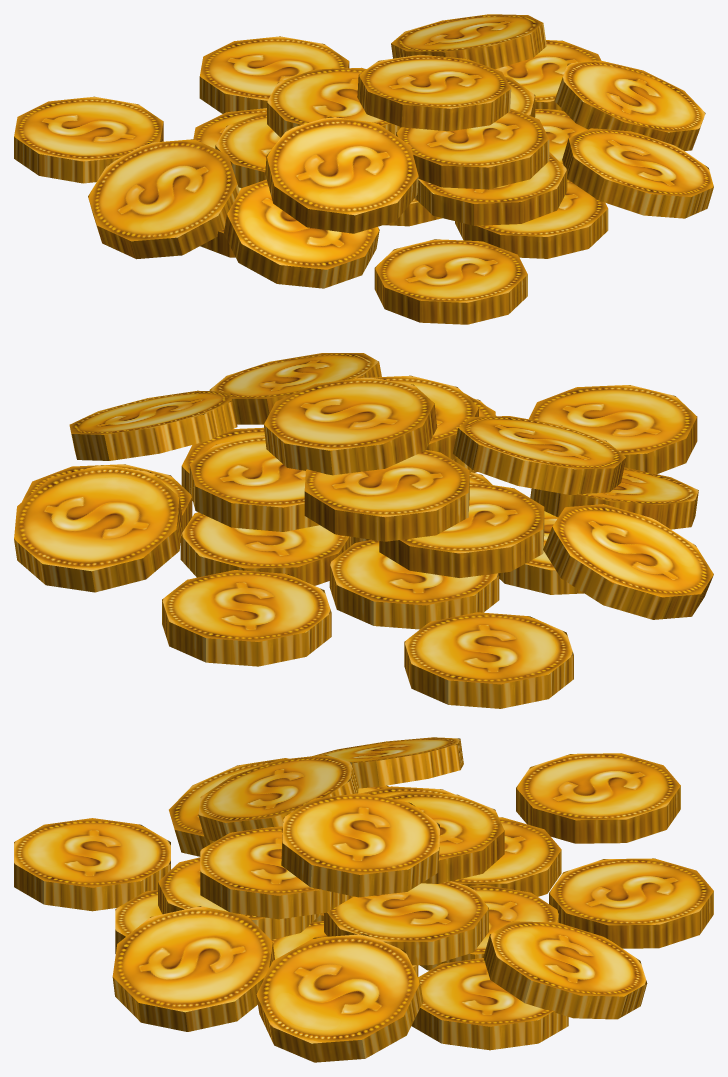
The model's file is coin_015.fbx.
3 views of the same model, one above another, from view 1: azimuth 30°, elevation 25°; view 2: azimuth 150°, elevation 25°; view 3: azimuth 270°, elevation 25° (orthographic). The views are drawn at different scales.
Visible parts, largest first — view 1: coin_015; view 2: coin_015; view 3: coin_015.
Part boxes in pixels (bbox=[...]): coin_015: bbox=[14, 14, 713, 324]; coin_015: bbox=[14, 353, 713, 708]; coin_015: bbox=[14, 737, 713, 1062].
Size of the model in its own units: 18.37 by 3.11 by 18.04.
